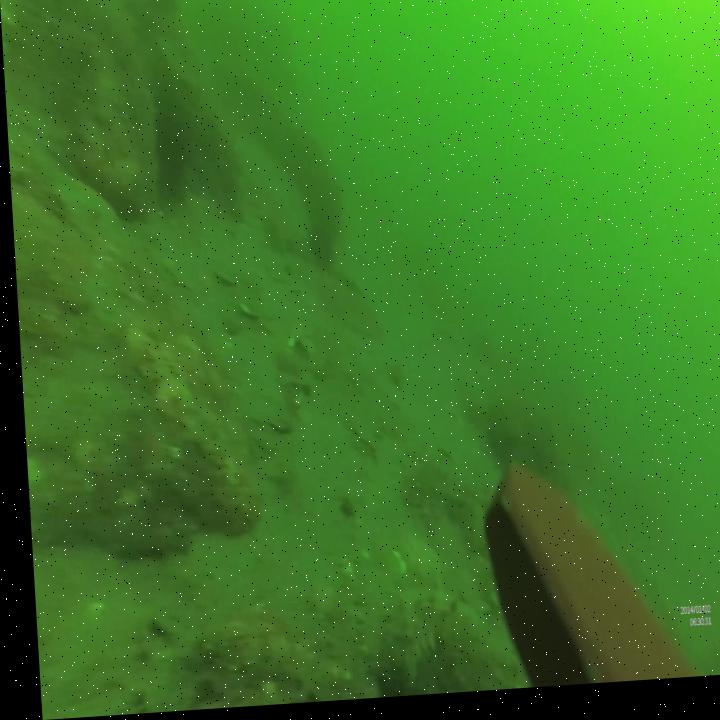echinus: (135, 120, 188, 205)
holothurian: (361, 586, 514, 702)
